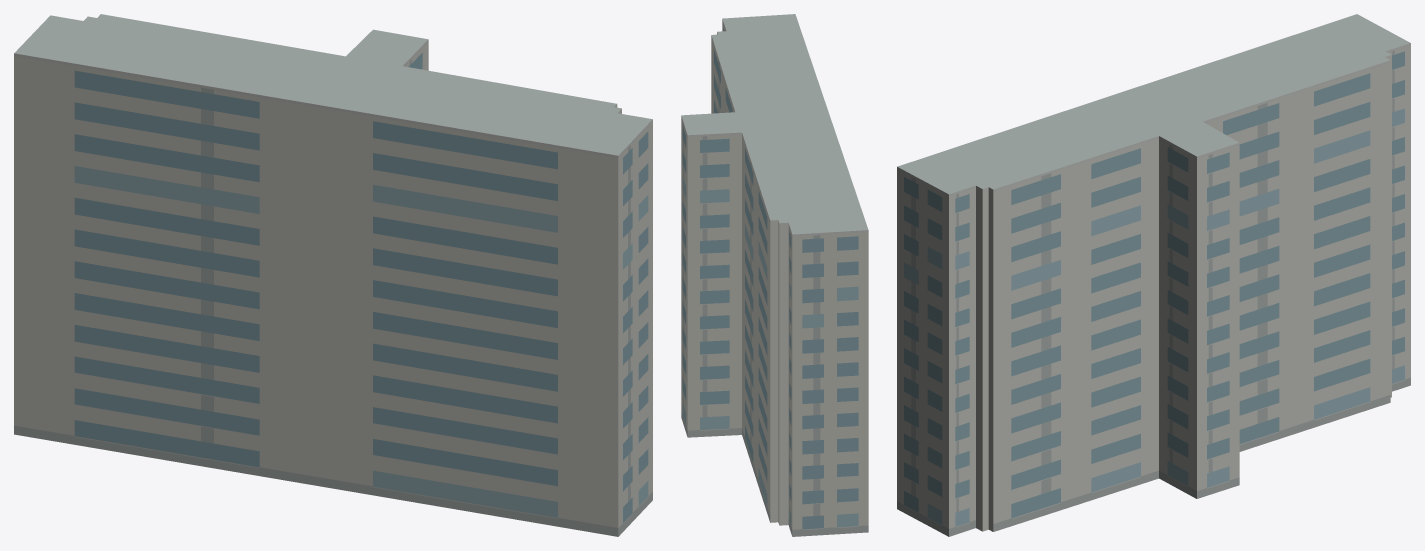
File: residential-09471b43-5526-4ba7-a8a7-ae99df681861.glb
The picture shows the model from 3 angles, left to right: view 1: azimuth 30°, elevation 25°; view 2: azimuth 150°, elevation 25°; view 3: azimuth 270°, elevation 25°; orthographic projection. The views are drawn at different scales.
Parts seen in each view (by area): view 1: residential-09471b43-5526-4ba7-a8a7-ae99df681861.tmp; view 2: residential-09471b43-5526-4ba7-a8a7-ae99df681861.tmp; view 3: residential-09471b43-5526-4ba7-a8a7-ae99df681861.tmp.
Part boxes in pixels (x1=…): residential-09471b43-5526-4ba7-a8a7-ae99df681861.tmp: x1=14, y1=14, x2=652, y2=536; residential-09471b43-5526-4ba7-a8a7-ae99df681861.tmp: x1=681, y1=14, x2=868, y2=536; residential-09471b43-5526-4ba7-a8a7-ae99df681861.tmp: x1=897, y1=14, x2=1410, y2=536.
Size of the model in its own units: 40.69 by 36 by 48.95.
